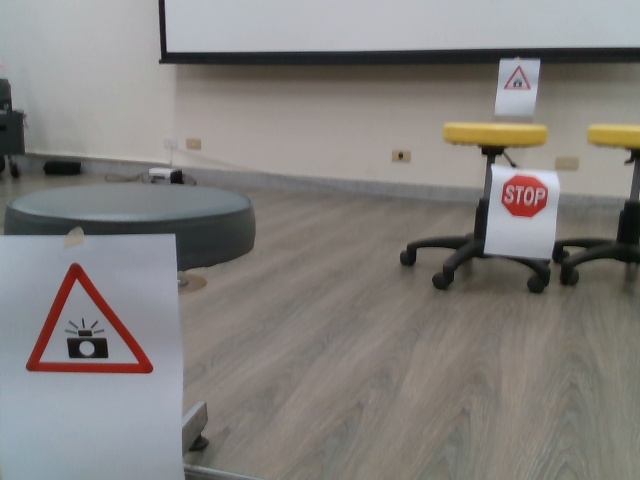camera: (24, 261, 156, 379)
stop: (498, 171, 550, 222)
